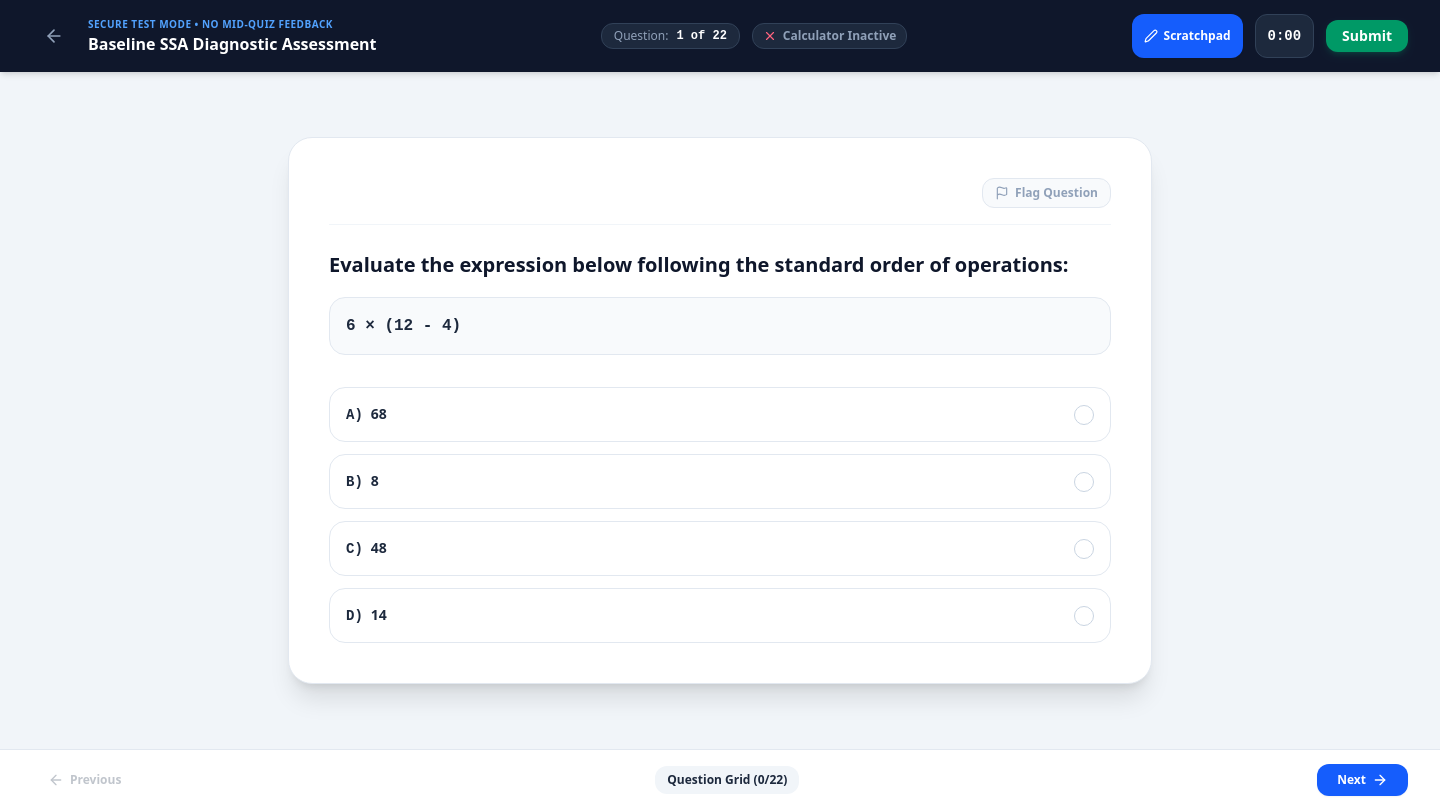
it: QuizRunner accessibility and saving (logic-flows Medium, Low) › the unanswered-questions confirm is a dialog that Escape closes
This screenshot has width=1440, height=810.
Click the button "Submit". click: (1367, 36)
box: [1326, 20, 1408, 52]
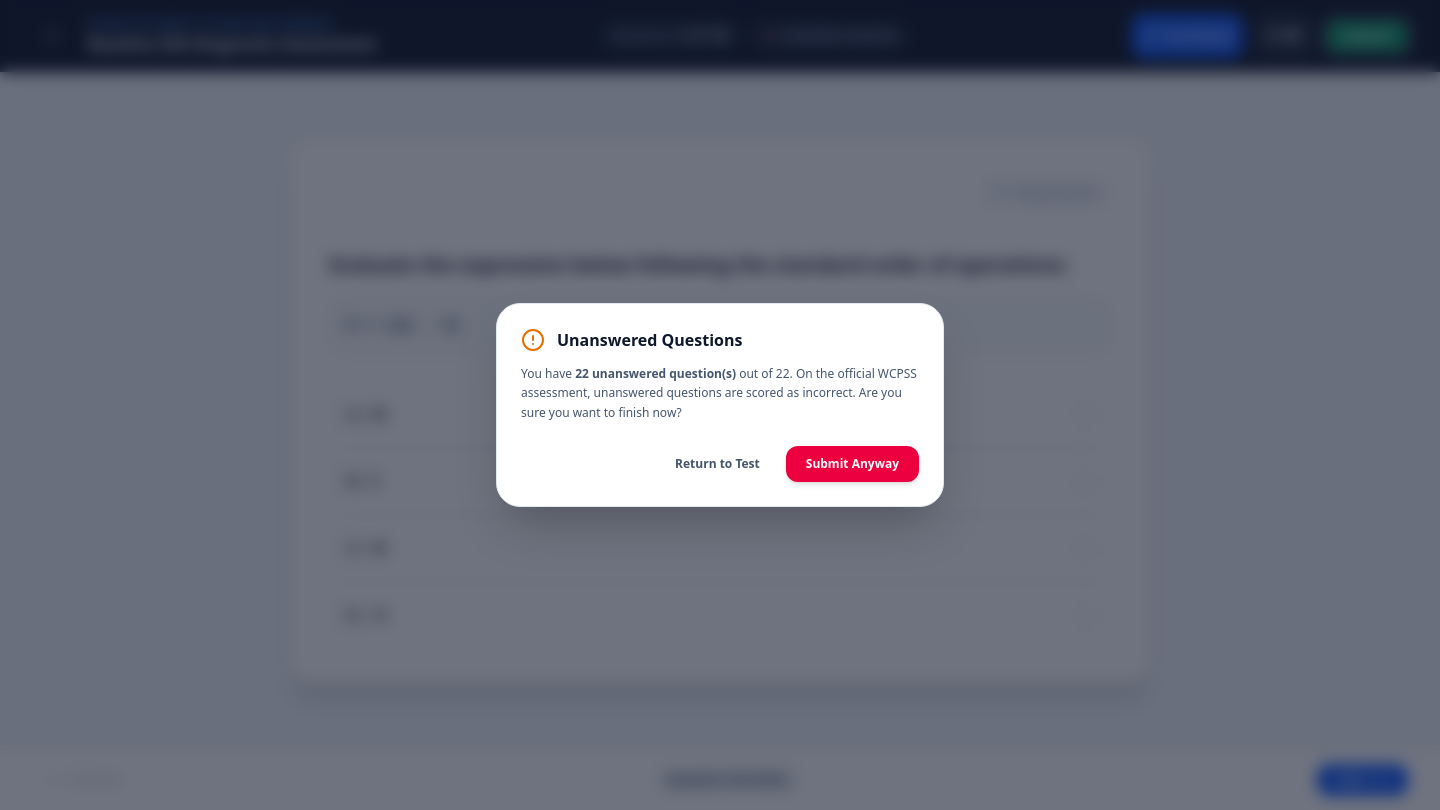
Now the dialog "Unanswered Questions" is shown, box [496, 303, 944, 507]
Press Escape
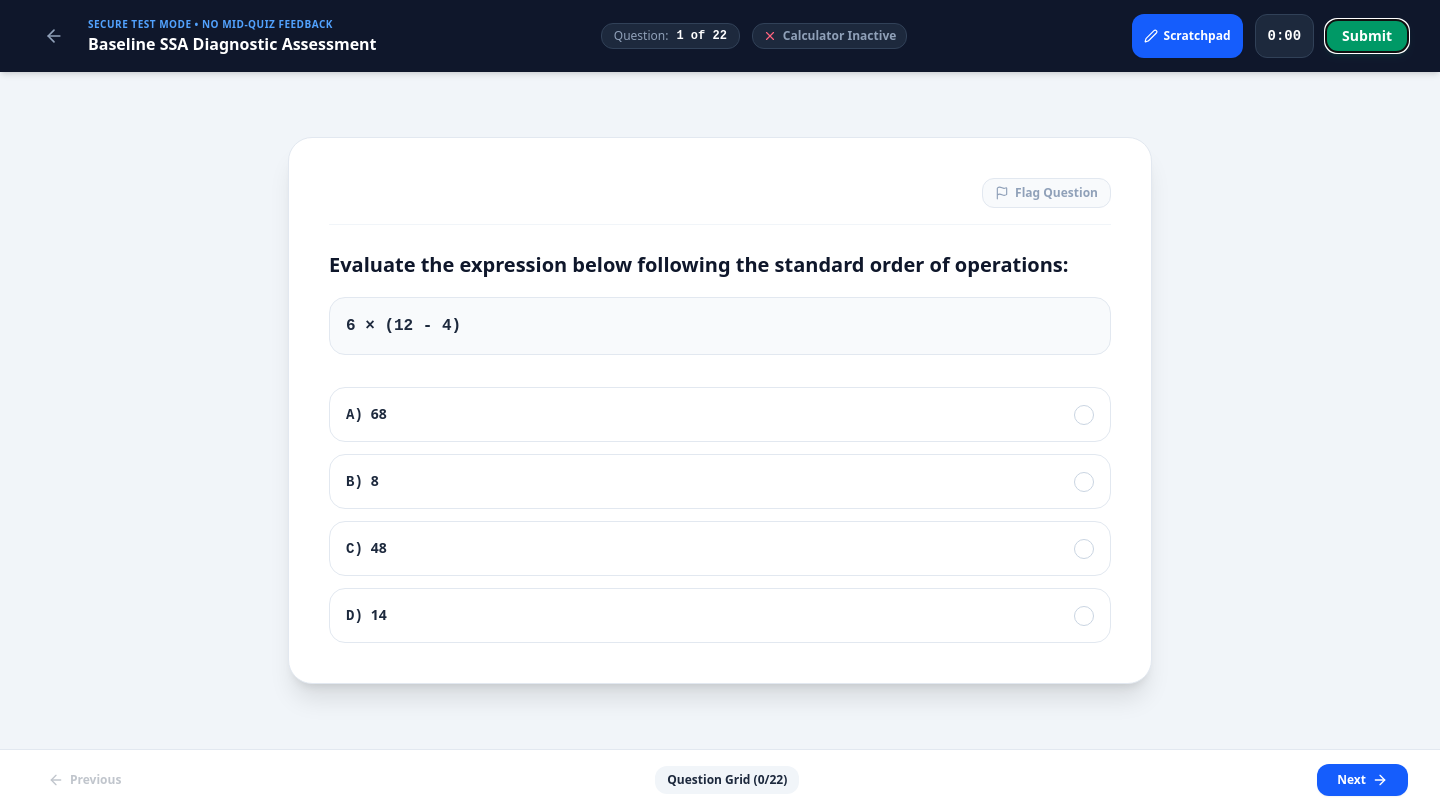
Now the heading "Unanswered Questions" is gone
